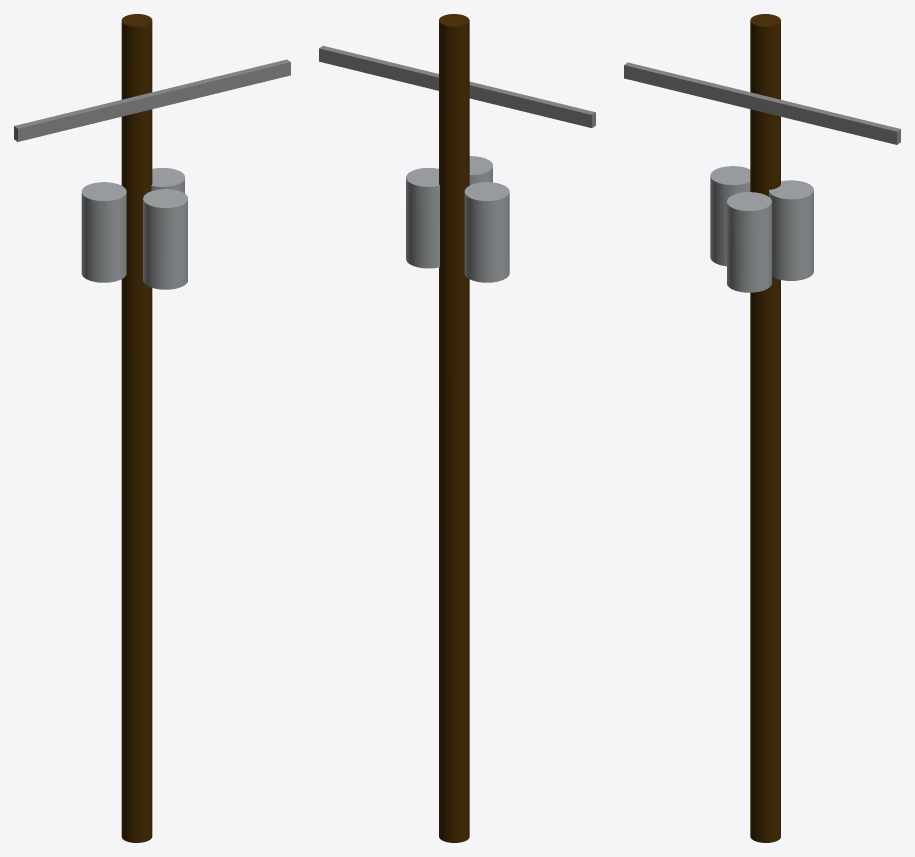
The model's file is power_line_07.glb.
3 renders of one model, left to right at view 1: azimuth 30°, elevation 25°; view 2: azimuth 150°, elevation 25°; view 3: azimuth 330°, elevation 25°, orthographic.
Visible parts, largest first — view 1: PowerLine07; view 2: PowerLine07; view 3: PowerLine07.
Boxes of the visible parts, x1,y1,x2,y2 form: PowerLine07: [14, 14, 290, 842]; PowerLine07: [319, 14, 595, 842]; PowerLine07: [624, 14, 900, 842].
Bounding box in the file's own units: 7 × 20 × 2.
